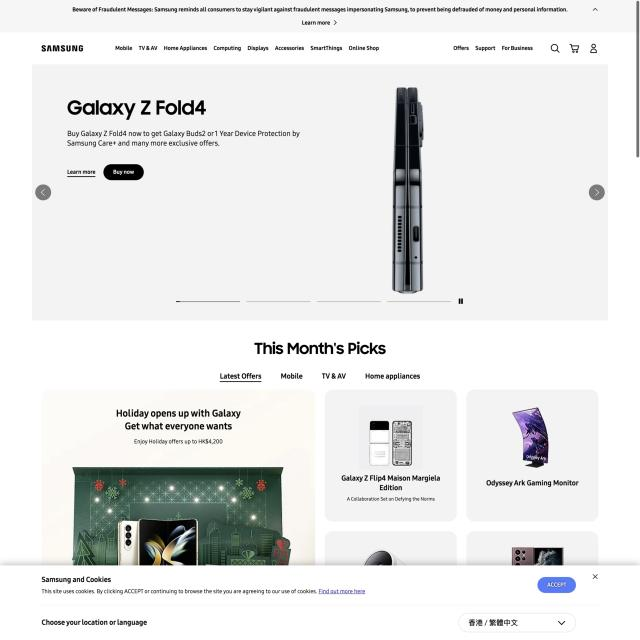logo: (32, 40, 91, 56)
navigation: (110, 42, 536, 56)
